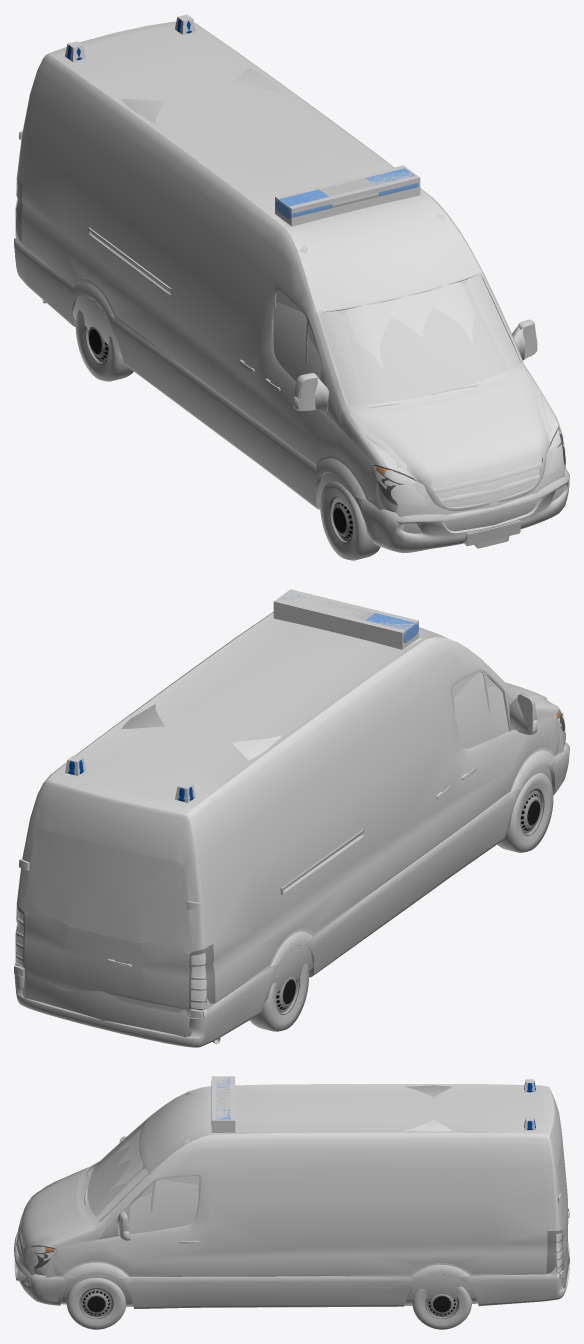
File: VanPolice.FBX
3 renders of one model, top to bottom at view 1: azimuth 30°, elevation 25°; view 2: azimuth 150°, elevation 25°; view 3: azimuth 270°, elevation 25°, orthographic. The views are drawn at different scales.
Parts seen in each view (by area): view 1: Paint_LOD0, VanP_Col, Body_LOD0, Windows_LOD0, WheelFrontRight_LOD0, BeaconsGlass_LOD0, WheelBackRight_LOD0, LightGlassFront_LOD0, PlateFrontTypeEU_LOD0; view 2: Paint_LOD0, Body_LOD0, VanP_Col, WheelFrontRight_LOD0, LightGlassBack_LOD0, WheelBackRight_LOD0, BeaconsGlass_LOD0; view 3: Paint_LOD0, Body_LOD0, VanP_Col, WheelFrontLeft_LOD0, Windows_LOD0, WheelBackLeft_LOD0, LightGlassBack_LOD0, LightGlassFront_LOD0, BeaconsGlass_LOD0.
Part boxes in pixels (x1,y1,x2,y2): Paint_LOD0: [14, 21, 565, 511]; VanP_Col: [15, 14, 565, 538]; Body_LOD0: [14, 180, 569, 552]; Windows_LOD0: [276, 283, 507, 403]; WheelFrontRight_LOD0: [320, 481, 380, 560]; BeaconsGlass_LOD0: [275, 168, 418, 219]; WheelBackRight_LOD0: [75, 309, 133, 381]; LightGlassFront_LOD0: [372, 425, 565, 505]; PlateFrontTypeEU_LOD0: [464, 520, 521, 546]; Paint_LOD0: [14, 612, 565, 1019]; Body_LOD0: [14, 669, 569, 1047]; VanP_Col: [16, 589, 563, 1037]; WheelFrontRight_LOD0: [497, 773, 553, 852]; LightGlassBack_LOD0: [15, 904, 215, 1009]; WheelBackRight_LOD0: [249, 963, 308, 1031]; BeaconsGlass_LOD0: [284, 595, 418, 642]; Paint_LOD0: [15, 1084, 568, 1279]; Body_LOD0: [14, 1117, 569, 1309]; VanP_Col: [15, 1076, 569, 1306]; WheelFrontLeft_LOD0: [66, 1278, 126, 1329]; Windows_LOD0: [87, 1126, 199, 1216]; WheelBackLeft_LOD0: [412, 1286, 471, 1329]; LightGlassBack_LOD0: [546, 1230, 563, 1273]; LightGlassFront_LOD0: [25, 1245, 57, 1268]; BeaconsGlass_LOD0: [211, 1077, 230, 1124].
Size of what is drawn, in the model's own units: 242 by 270 by 681.
